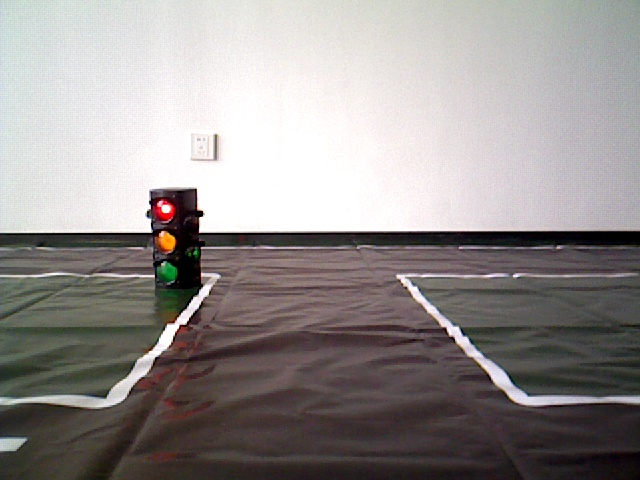red: (148, 188, 200, 287)
